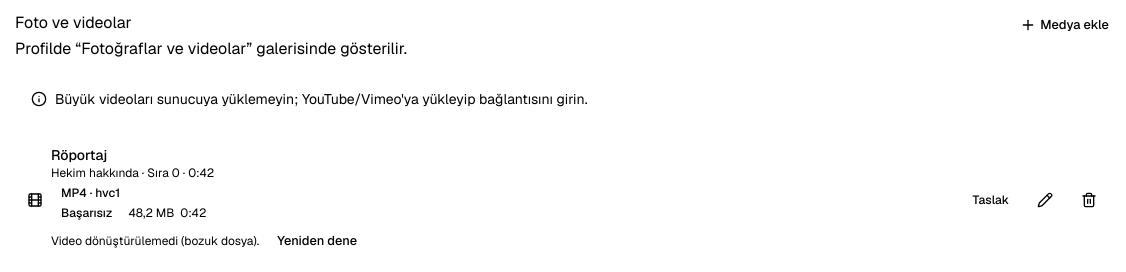
Test: DoctorMediaManager — dönüştürme durumu › Başarısız: okunabilir hata + Yeniden dene retry ucunu çağırır ve listeyi yeniler; canRetry=false ise düğme yok
The image size is (1126, 272).
Expected: the text "Video dönüştürülemedi (bozuk dosya)." is shown, [51,233,259,249]
Expected: the text "Başarısız" is shown, [61,205,112,221]
Click the button "Yeniden dene" at (317, 241), box [267,227,367,255]
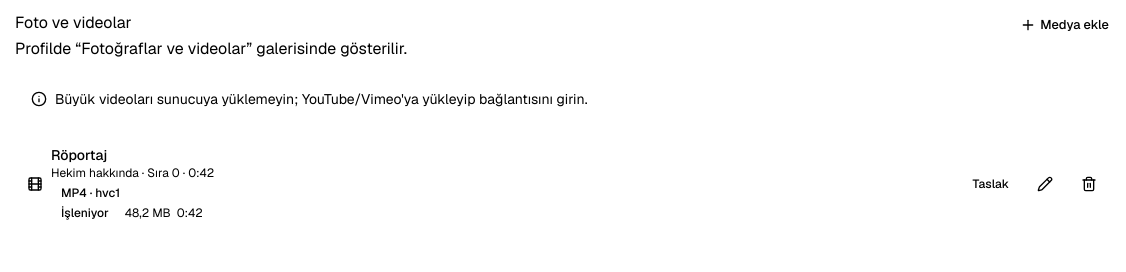
Expected: the element with test id "video-processing-status" shows "İşleniyor", [61,205,109,221]
